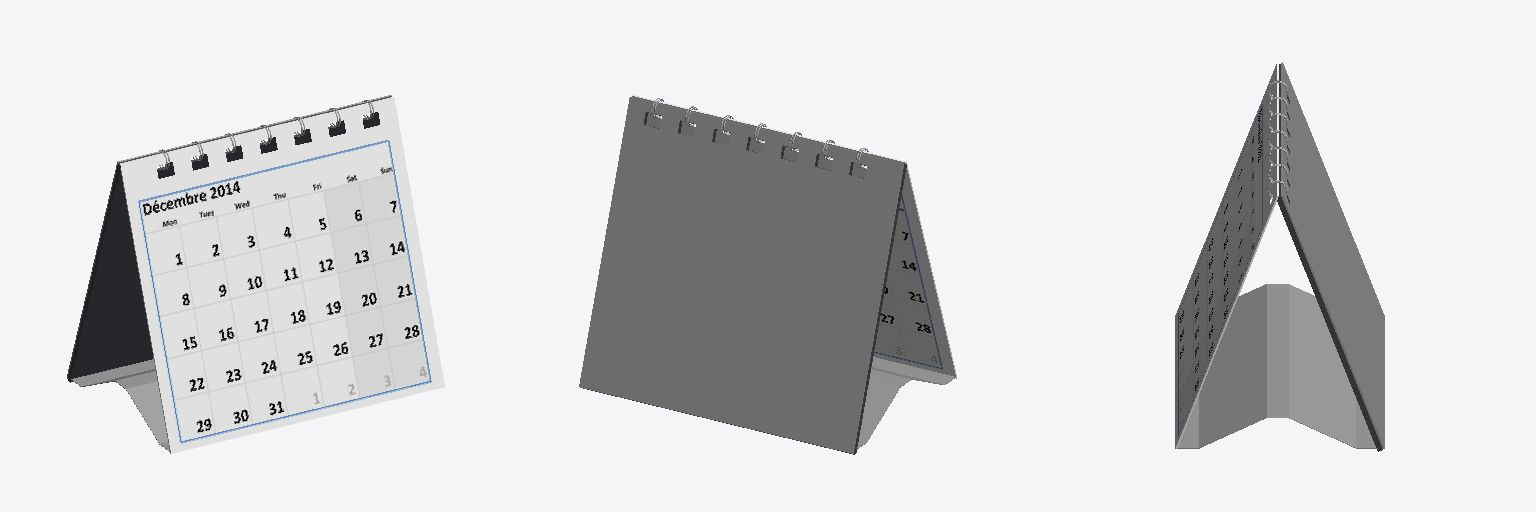
The picture shows the model from 3 angles: view 1: azimuth 30°, elevation 25°; view 2: azimuth 150°, elevation 25°; view 3: azimuth 270°, elevation 25°; orthographic projection.
Visible parts, largest first — view 1: Cube, Cube.002, Cube.003, Cube.001; view 2: Cube.001, Cube, Cube.003, Cube.002; view 3: Cube.003, Cube.001, Cube, Cube.002.
Boxes of the visible parts, x1=… form: Cube: x1=120, y1=97, x2=444, y2=453; Cube.002: x1=68, y1=97, x2=389, y2=382; Cube.003: x1=71, y1=359, x2=169, y2=451; Cube.001: x1=67, y1=95, x2=391, y2=378; Cube.001: x1=579, y1=97, x2=903, y2=453; Cube: x1=632, y1=95, x2=956, y2=378; Cube.003: x1=857, y1=357, x2=955, y2=449; Cube.002: x1=583, y1=112, x2=906, y2=454; Cube.003: x1=1177, y1=284, x2=1377, y2=448; Cube.001: x1=1281, y1=62, x2=1384, y2=448; Cube: x1=1175, y1=62, x2=1278, y2=448; Cube.002: x1=1277, y1=64, x2=1382, y2=451.
Bounding box in the file's own units: 1 × 0.9 × 0.6602.
5 materials, 1 textured.